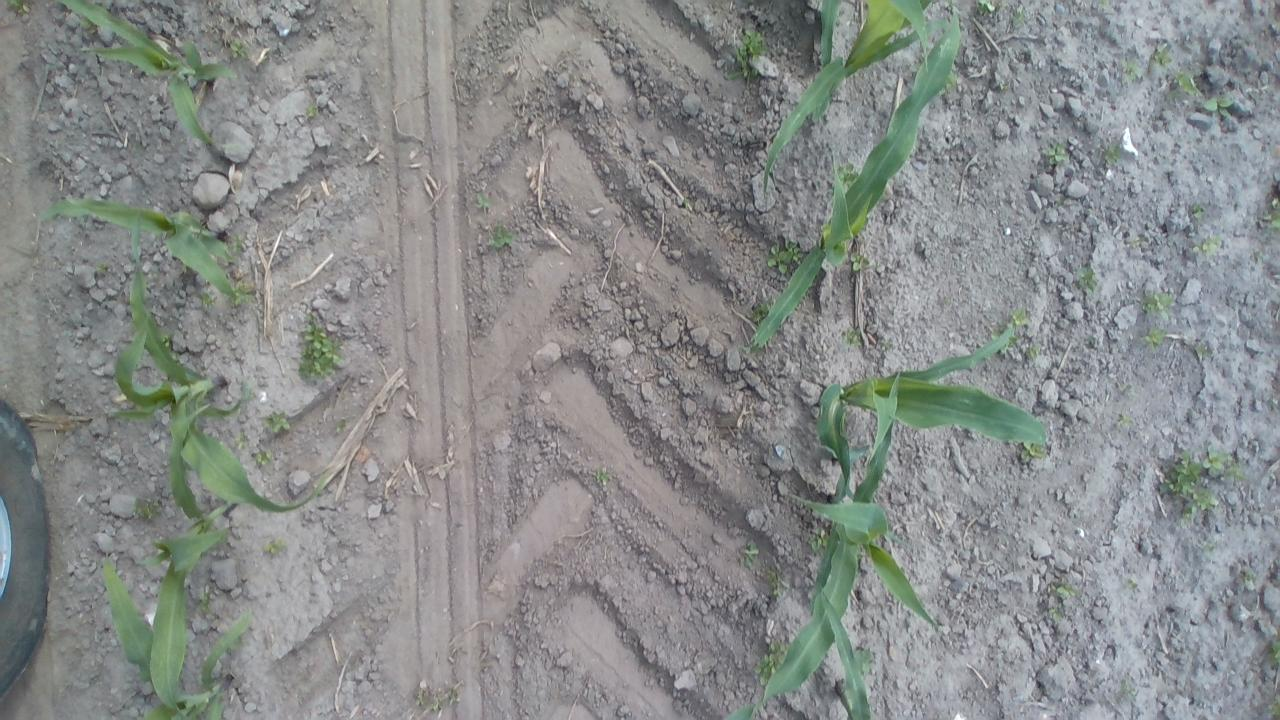Maize: (741, 5, 965, 356), (732, 367, 942, 720), (107, 265, 339, 530), (804, 314, 1056, 502), (762, 4, 947, 200), (61, 0, 260, 170), (31, 187, 272, 323), (94, 558, 253, 720), (813, 590, 879, 720)
Weeds: (1156, 446, 1246, 530), (293, 307, 347, 386), (728, 28, 769, 78), (754, 637, 793, 682), (410, 680, 463, 713), (131, 492, 174, 526), (1134, 286, 1178, 318), (482, 216, 517, 255), (766, 563, 799, 601), (830, 159, 864, 195), (766, 238, 806, 268), (1168, 61, 1200, 96), (1198, 88, 1236, 116), (1070, 264, 1100, 298), (1188, 232, 1222, 260), (849, 643, 875, 679), (1140, 325, 1170, 356), (262, 408, 294, 437), (1040, 140, 1069, 172), (1100, 138, 1124, 176), (736, 538, 760, 574), (749, 294, 780, 321), (260, 536, 292, 562), (226, 282, 260, 306), (226, 234, 255, 262), (221, 34, 251, 61), (806, 524, 834, 552), (845, 246, 872, 275), (1050, 579, 1084, 602), (246, 441, 275, 466), (1150, 42, 1174, 72), (1022, 336, 1046, 366), (1018, 438, 1052, 459), (195, 587, 218, 618), (841, 324, 868, 350), (328, 413, 353, 441), (90, 260, 118, 284), (1118, 60, 1142, 87), (1010, 304, 1034, 330), (197, 290, 222, 314), (1183, 200, 1208, 224), (1263, 198, 1280, 232), (1190, 340, 1211, 366), (589, 466, 612, 488), (1041, 608, 1067, 627), (472, 188, 494, 210), (976, 0, 1000, 20), (301, 100, 322, 122), (1267, 636, 1280, 670), (1011, 5, 1030, 27), (1239, 564, 1258, 585), (232, 430, 253, 448), (1267, 691, 1280, 720), (1115, 413, 1137, 430), (1124, 574, 1140, 596), (3, 0, 35, 9), (884, 338, 895, 352)
